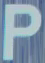Parking: (0, 0, 43, 62)
